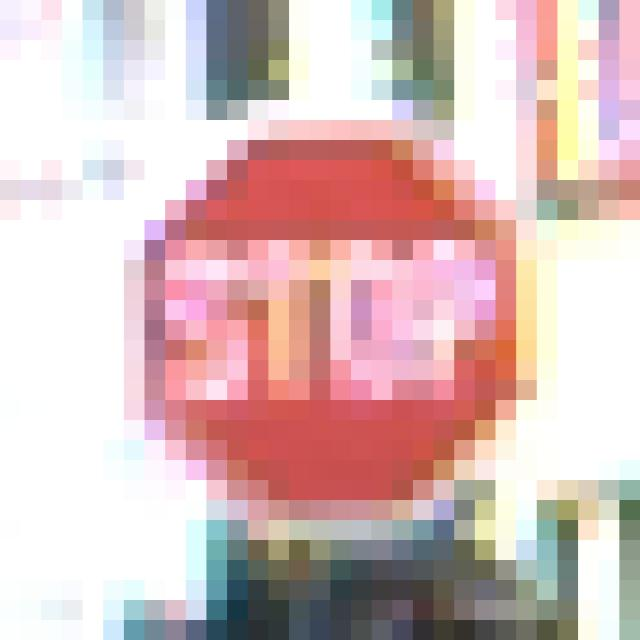STOP: (104, 101, 538, 541)
